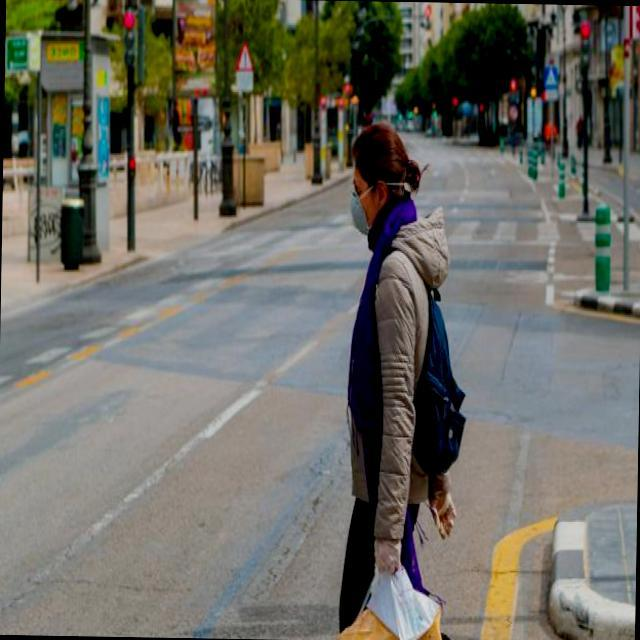person: (282, 109, 483, 640)
